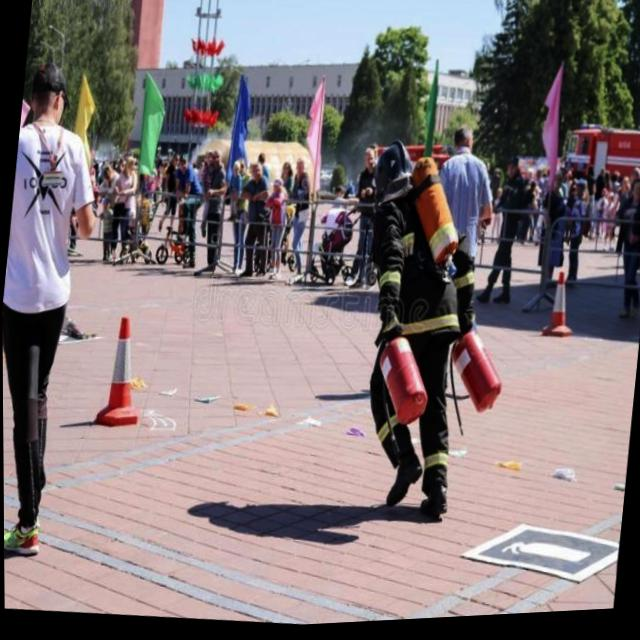FireExtinguisher: (358, 311, 431, 468), (434, 304, 510, 449)
